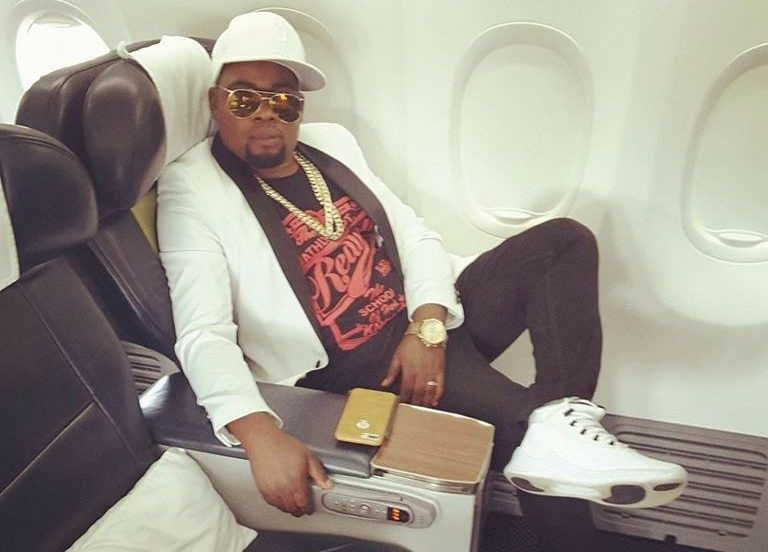face_no_mask: (212, 57, 301, 167)
